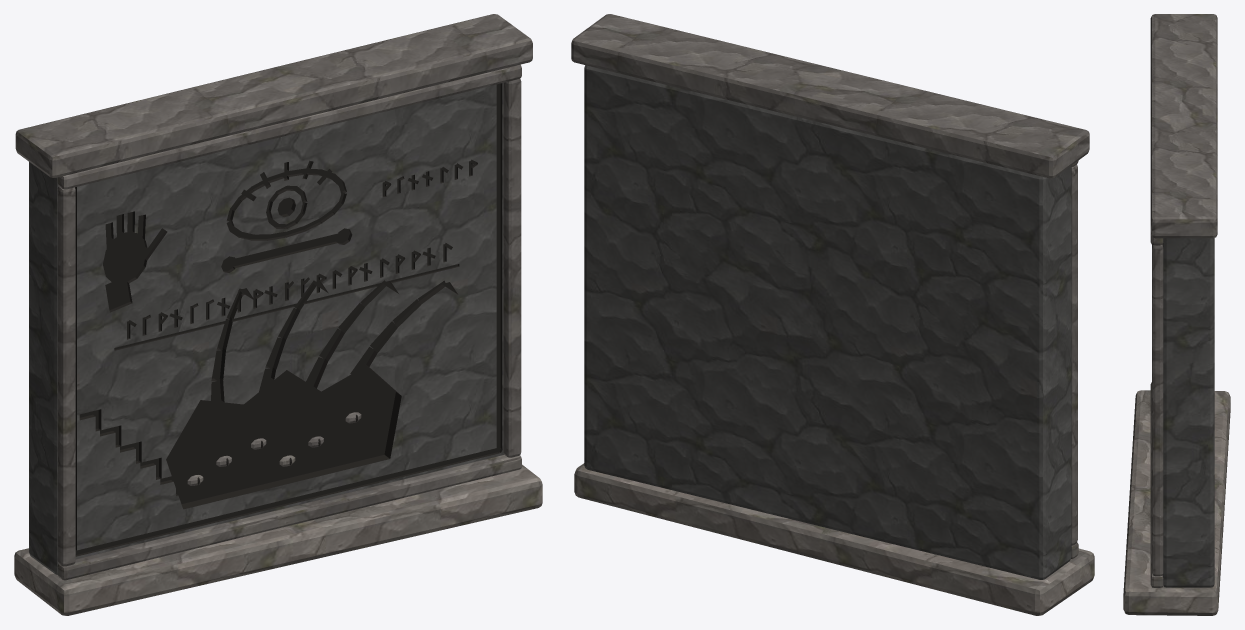
The model's file is vo_warning_relief.glb.
3 renders of one model, left to right at view 1: azimuth 30°, elevation 25°; view 2: azimuth 150°, elevation 25°; view 3: azimuth 270°, elevation 25°, orthographic. The views are drawn at different scales.
Parts seen in each view (by area): view 1: model; view 2: model; view 3: model.
Boxes of the visible parts, x1,y1,x2,y2 form: model: (14,14,542,615); model: (571,14,1094,615); model: (1123,14,1230,615).
Bounding box in the file's own units: 1.68 × 1.52 × 0.368.
Materials: 4 (3 with a texture image).
